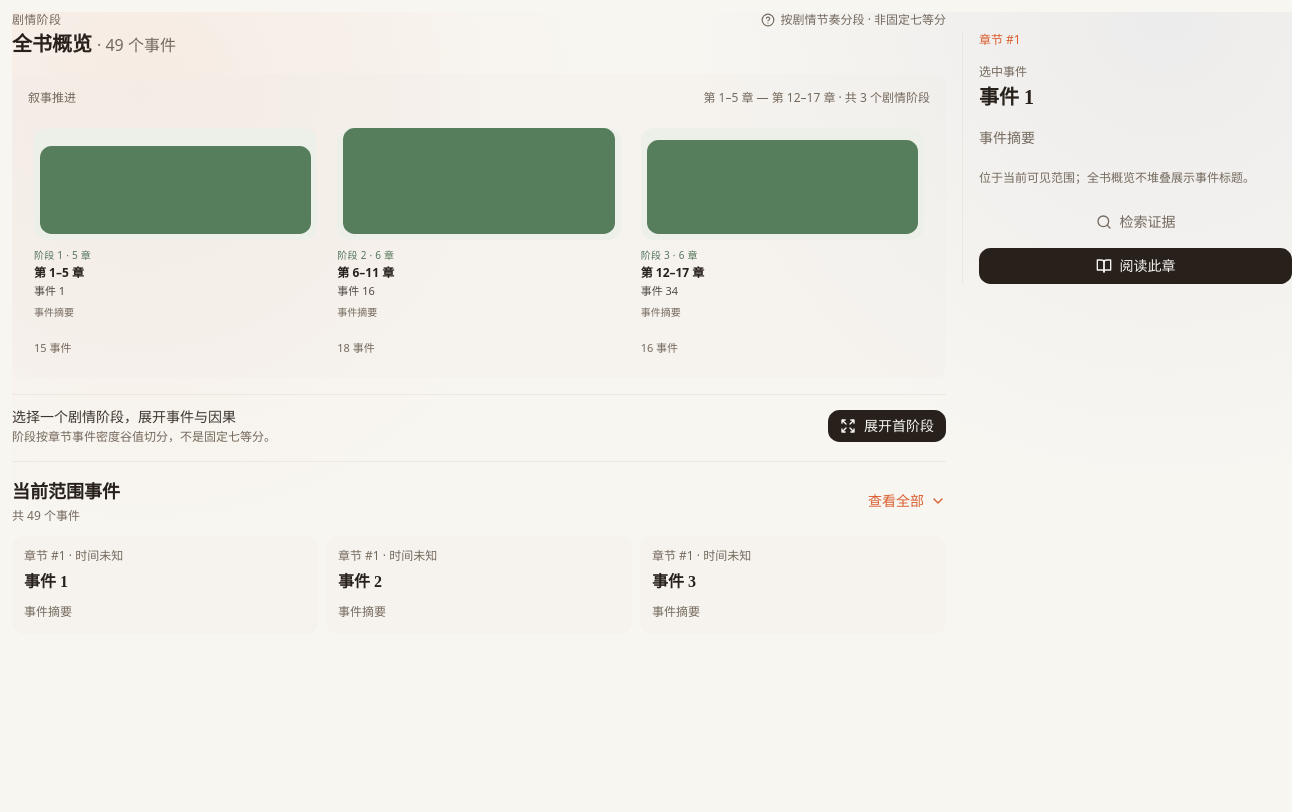
Scenario: TimelineChart progressive disclosure › aggregates a large timeline and opens a bounded event window
The image size is (1292, 812).
Expected: the heading "全书概览 · 49 个事件" is shown, [12, 30, 176, 58]
Expected: the text "按剧情节奏分段 · 非固定七等分" is shown, [760, 12, 946, 28]
First stage button — label is plot-based, not fixed "区间 1 · 25"
Click the button "阶段 1 · 5 章 第 1–5 章 事件 1 事件摘要 15 事件". click: (176, 242)
box: [28, 122, 323, 362]
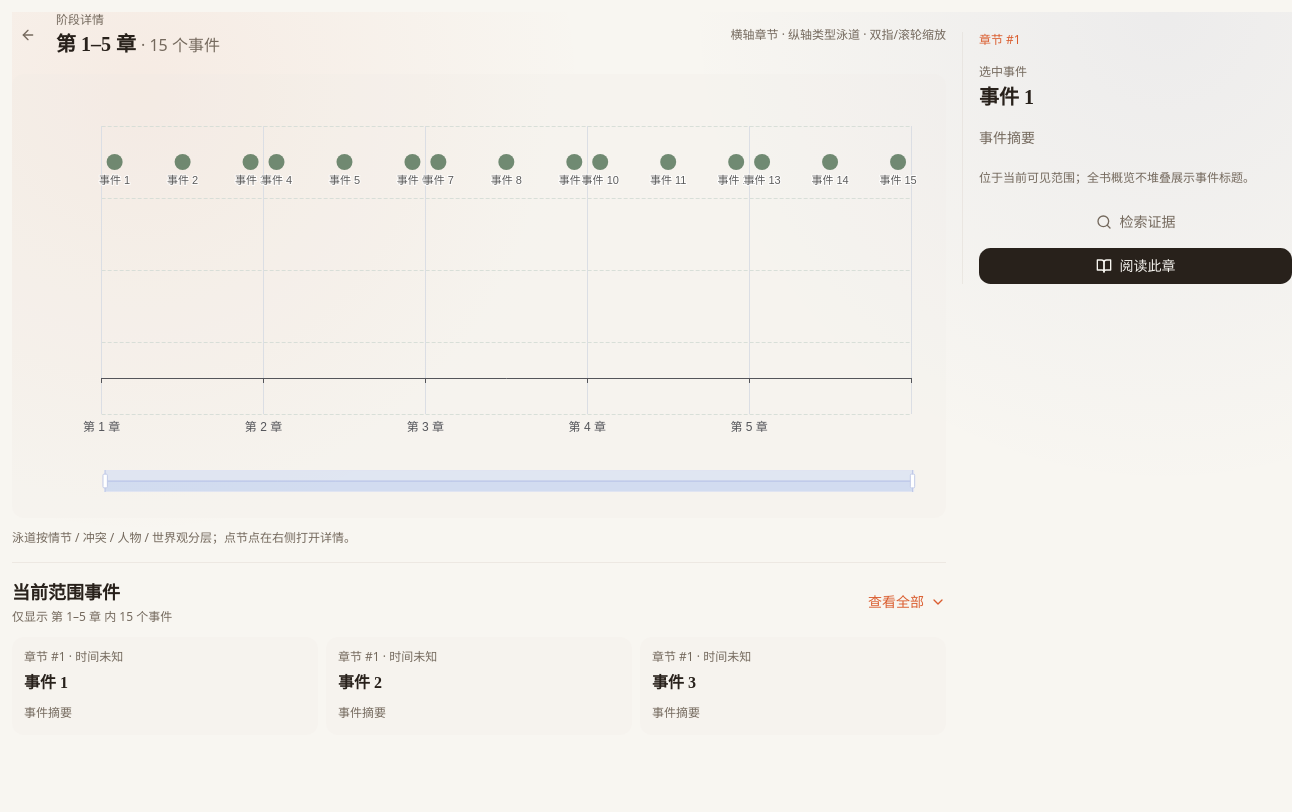
Now the button named "返回全书概览" is shown, box [12, 19, 44, 51]
Now the text "横轴章节 · 纵轴类型泳道 · 双指/滚轮缩放" is shown, box [731, 27, 946, 43]
